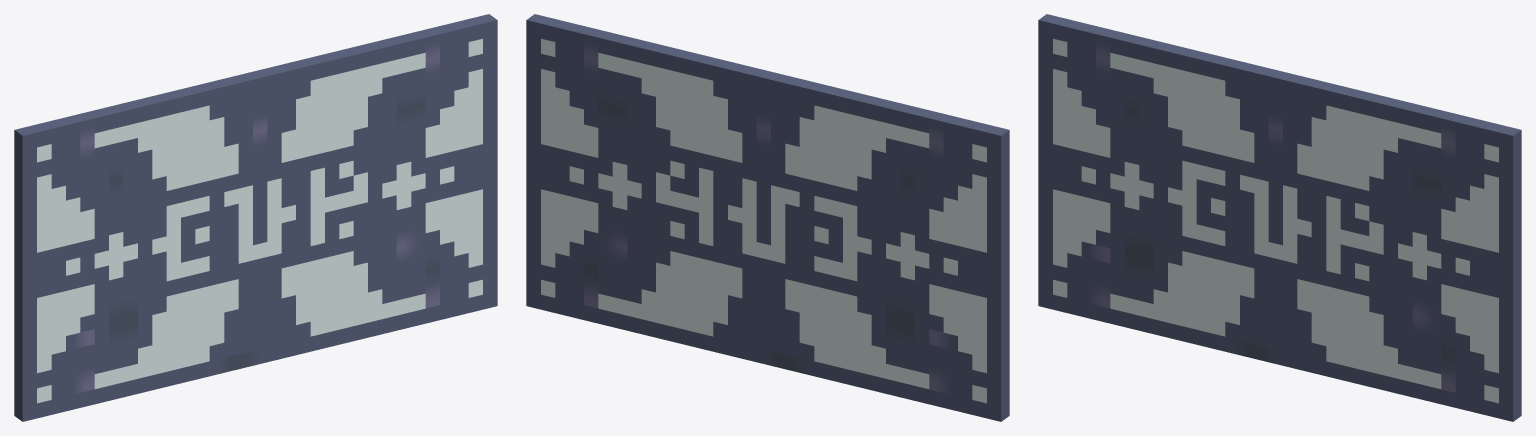
Rendered from Poster.fbx.
3 views of the same model, side by side, from view 1: azimuth 30°, elevation 25°; view 2: azimuth 150°, elevation 25°; view 3: azimuth 330°, elevation 25° (orthographic).
Parts seen in each view (by area): view 1: Poster; view 2: Poster; view 3: Poster.
Part boxes in pixels (x1,y1,x2,y2): Poster: (14,14,497,421); Poster: (526,14,1009,421); Poster: (1038,14,1521,421).
Bounding box in the file's own units: 330 × 190 × 10.
2 materials, 2 textured.
